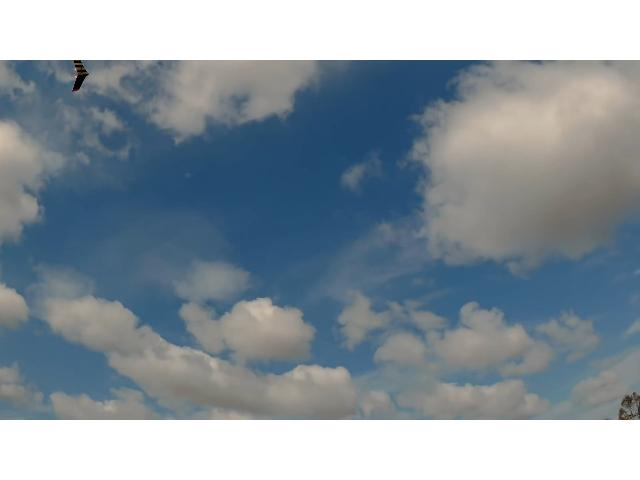Anti-Drone: (56, 61, 106, 98)
